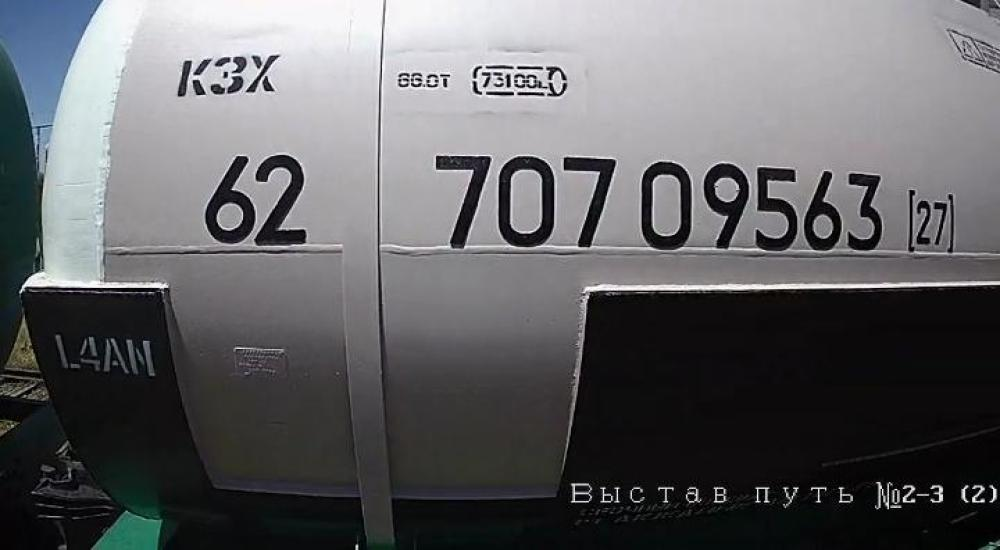Wagon-number: (430, 151, 888, 254)
